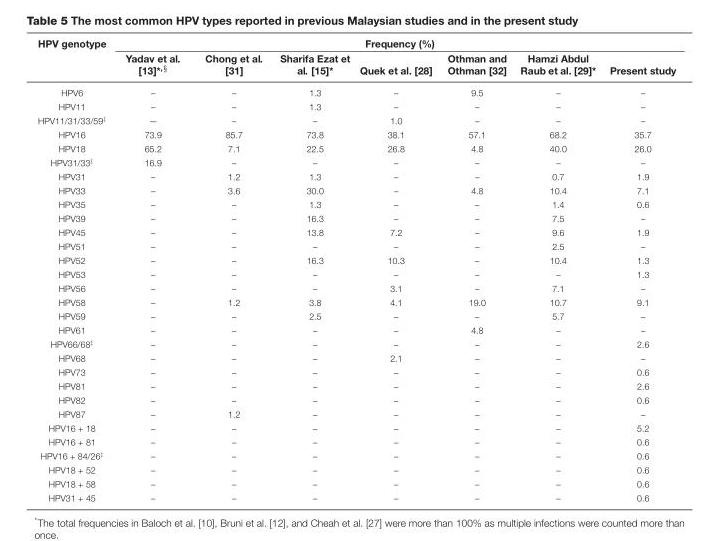table: (36, 36, 675, 502)
table column: (512, 36, 602, 502), (354, 36, 439, 502), (270, 36, 354, 502), (36, 36, 115, 502), (192, 36, 270, 502), (115, 36, 192, 502), (439, 36, 512, 502), (602, 36, 675, 502)
table column header: (36, 36, 675, 81)
table row: (36, 50, 675, 81), (36, 81, 675, 99), (36, 112, 675, 127), (36, 154, 675, 169), (36, 36, 675, 50), (36, 140, 675, 154), (36, 182, 675, 196), (36, 196, 675, 210), (36, 210, 675, 224), (36, 224, 675, 238), (36, 238, 675, 252), (36, 252, 675, 266), (36, 266, 675, 280), (36, 280, 675, 294), (36, 294, 675, 308), (36, 308, 675, 322), (36, 322, 675, 336), (36, 336, 675, 350), (36, 350, 675, 364), (36, 364, 675, 378), (36, 378, 675, 392), (36, 392, 675, 406), (36, 406, 675, 420), (36, 420, 675, 434), (36, 434, 675, 448), (36, 448, 675, 462), (36, 462, 675, 476), (36, 476, 675, 490), (36, 99, 675, 112), (36, 127, 675, 140), (36, 169, 675, 182), (36, 490, 675, 502)
table spanning cell: (115, 36, 675, 50), (36, 36, 115, 81)
